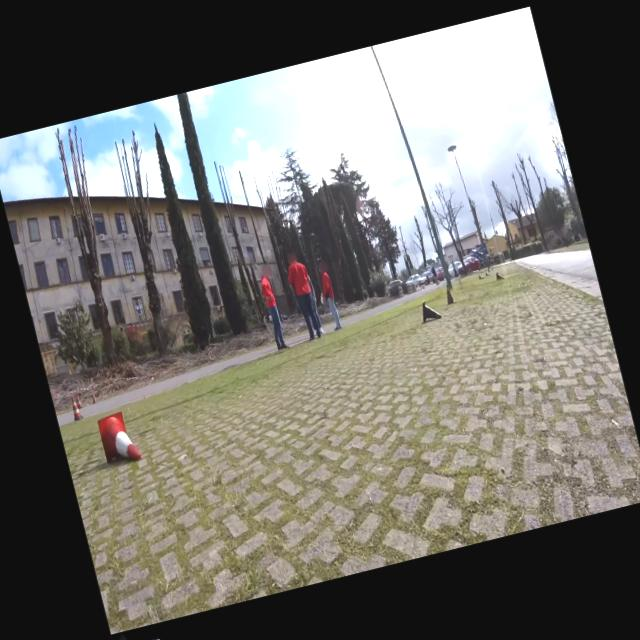large_orange_cone: (68, 394, 84, 420), (74, 393, 82, 409), (89, 391, 97, 403)
orange_cone: (96, 408, 141, 468)
unknown_cone: (418, 297, 442, 321), (442, 283, 456, 304), (494, 270, 504, 280), (478, 274, 483, 280), (485, 270, 490, 276)
